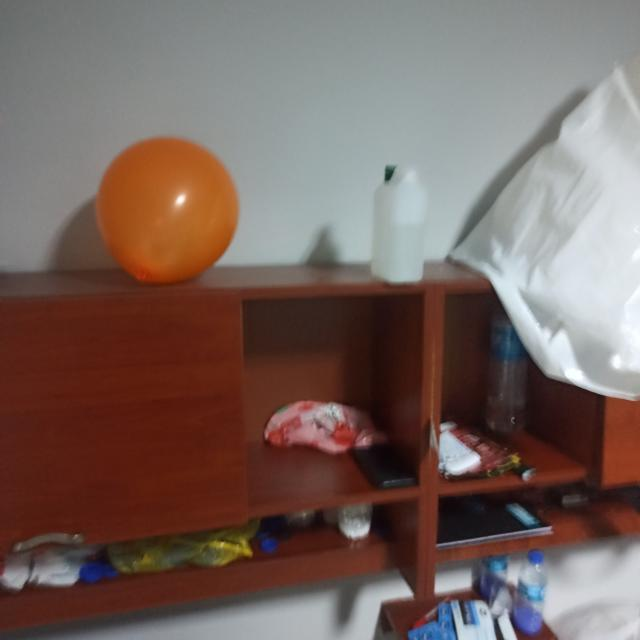balloon: (93, 136, 242, 284)
